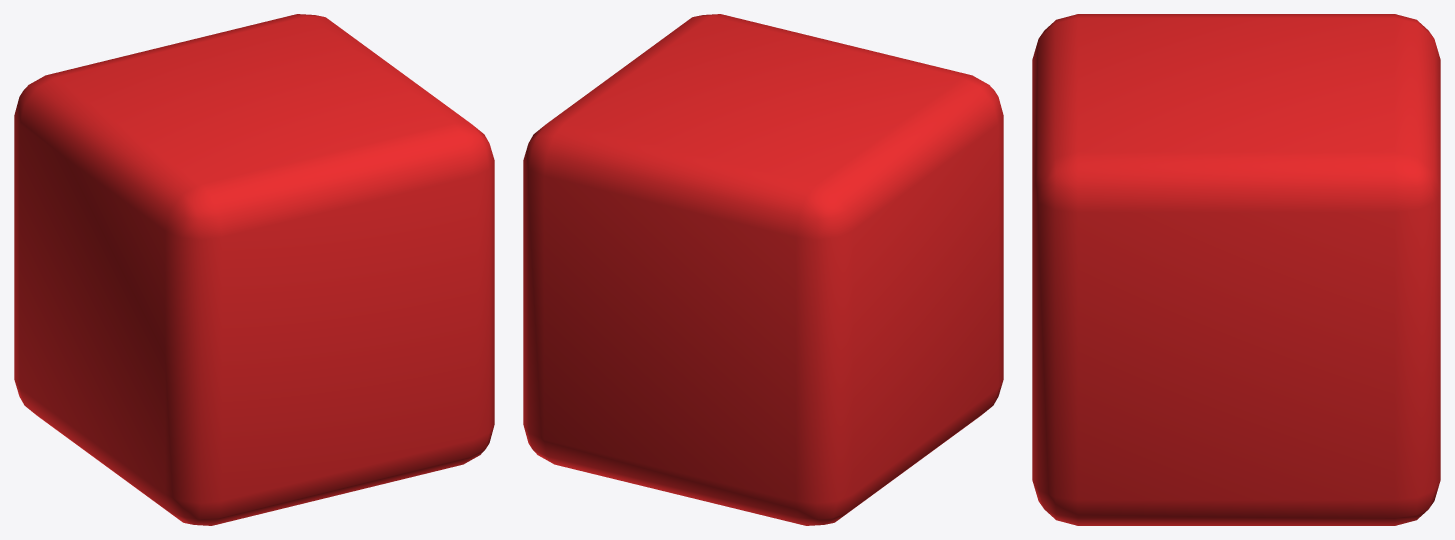
File: redcube.fbx
The picture shows the model from 3 angles, left to right: view 1: azimuth 30°, elevation 25°; view 2: azimuth 150°, elevation 25°; view 3: azimuth 270°, elevation 25°; orthographic projection. The views are drawn at different scales.
Parts seen in each view (by area): view 1: Cube; view 2: Cube; view 3: Cube.
Boxes of the visible parts, left/top/right/bottom form: Cube: left=14, top=14, right=494, bottom=525; Cube: left=523, top=14, right=1003, bottom=525; Cube: left=1032, top=14, right=1440, bottom=525.
Size of the model in its own units: 159 by 159 by 159.
